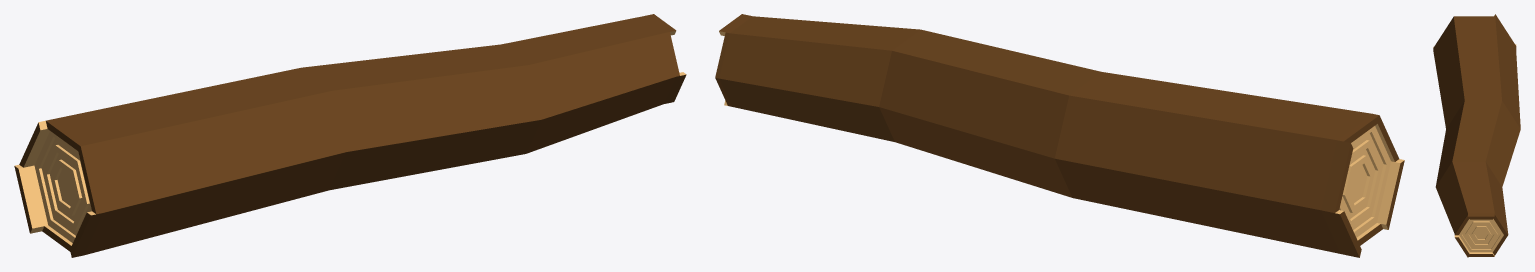
Rendered from troncoLongo2.fbx.
3 views of the same model, side by side, from view 1: azimuth 30°, elevation 25°; view 2: azimuth 150°, elevation 25°; view 3: azimuth 270°, elevation 25° (orthographic). The views are drawn at different scales.
Parts seen in each view (by area): view 1: Circle.007; view 2: Circle.007; view 3: Circle.007.
Part boxes in pixels (x1,y1,x2,y2): Circle.007: (14,14,686,257); Circle.007: (715,14,1404,257); Circle.007: (1433,14,1520,257).
Size of the model in its own units: 11.61 by 2.05 by 2.38.
